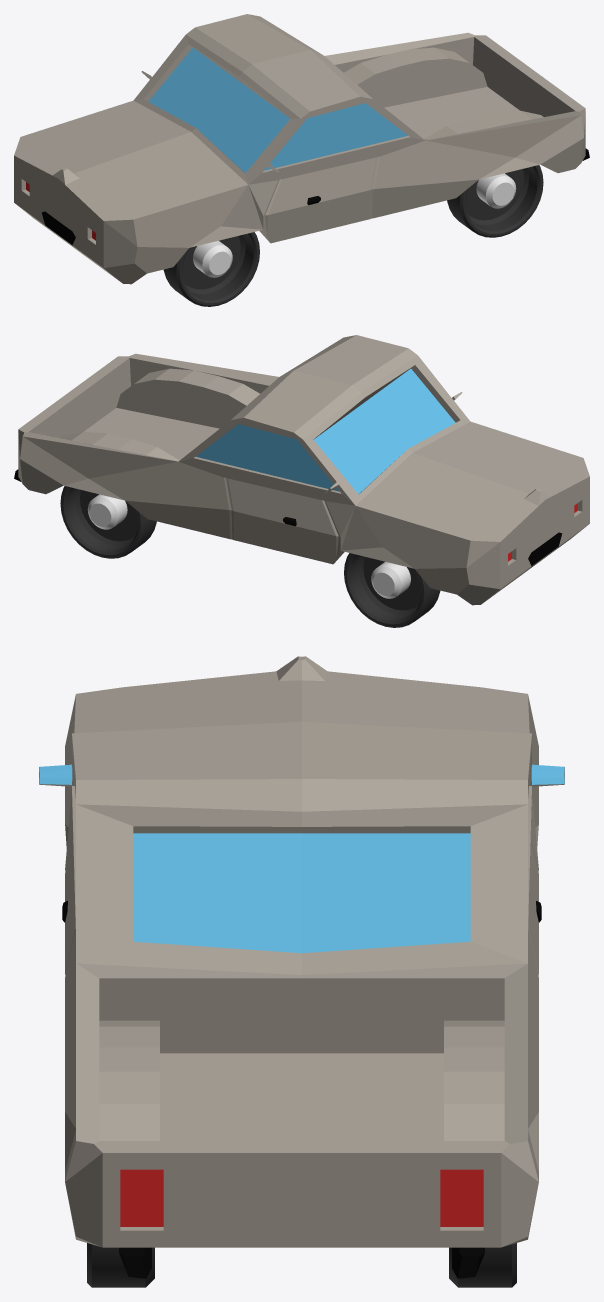
Rendered from car 1.fbx.
The picture shows the model from 3 angles, top to bottom: view 1: azimuth 30°, elevation 25°; view 2: azimuth 150°, elevation 25°; view 3: azimuth 270°, elevation 25°; orthographic projection. The views are drawn at different scales.
Visible parts, largest first — view 1: Cube.001, Cylinder.005, Cylinder.001; view 2: Cube.001, Cylinder.005, Cylinder.001; view 3: Cube.001, Cylinder.001.
Boxes of the visible parts, left/top/right/bottom form: Cube.001: left=14, top=14, right=589, bottom=284; Cylinder.005: left=163, top=232, right=259, bottom=306; Cylinder.001: left=447, top=165, right=543, bottom=237; Cube.001: left=14, top=335, right=589, bottom=605; Cylinder.005: left=344, top=553, right=440, bottom=627; Cylinder.001: left=60, top=486, right=156, bottom=558; Cube.001: left=39, top=656, right=564, bottom=1278; Cylinder.001: left=87, top=1243, right=516, bottom=1287.
Size of the model in its own units: 757 by 270 by 353.
